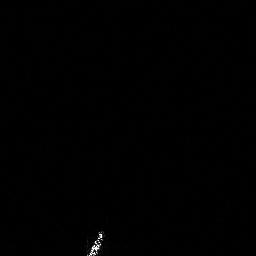ship: (82, 227, 108, 256)
